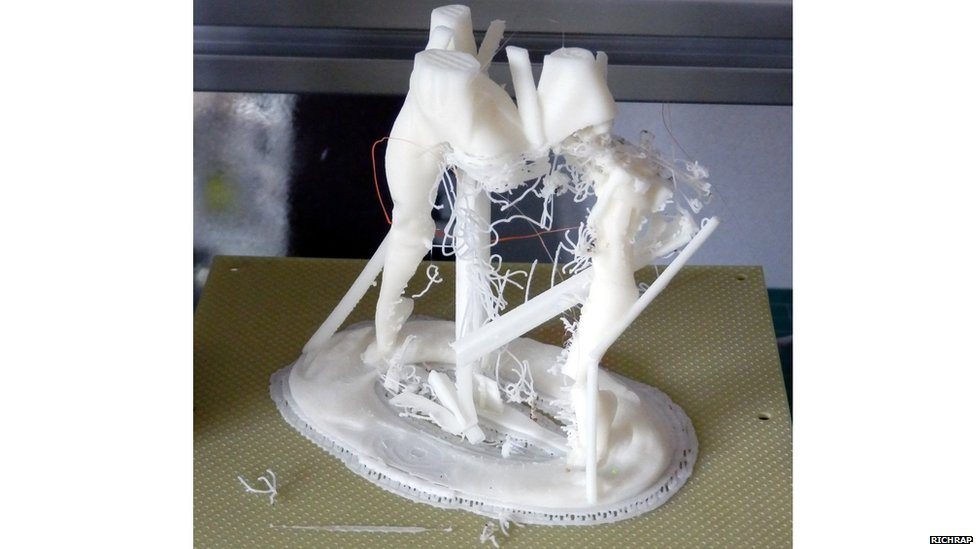Fail: (269, 7, 745, 549)
